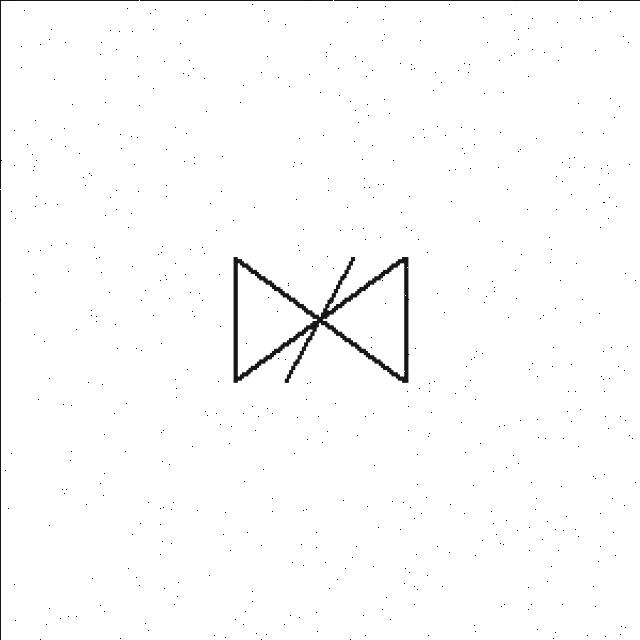Butterfly Valve: (142, 178, 464, 438)
